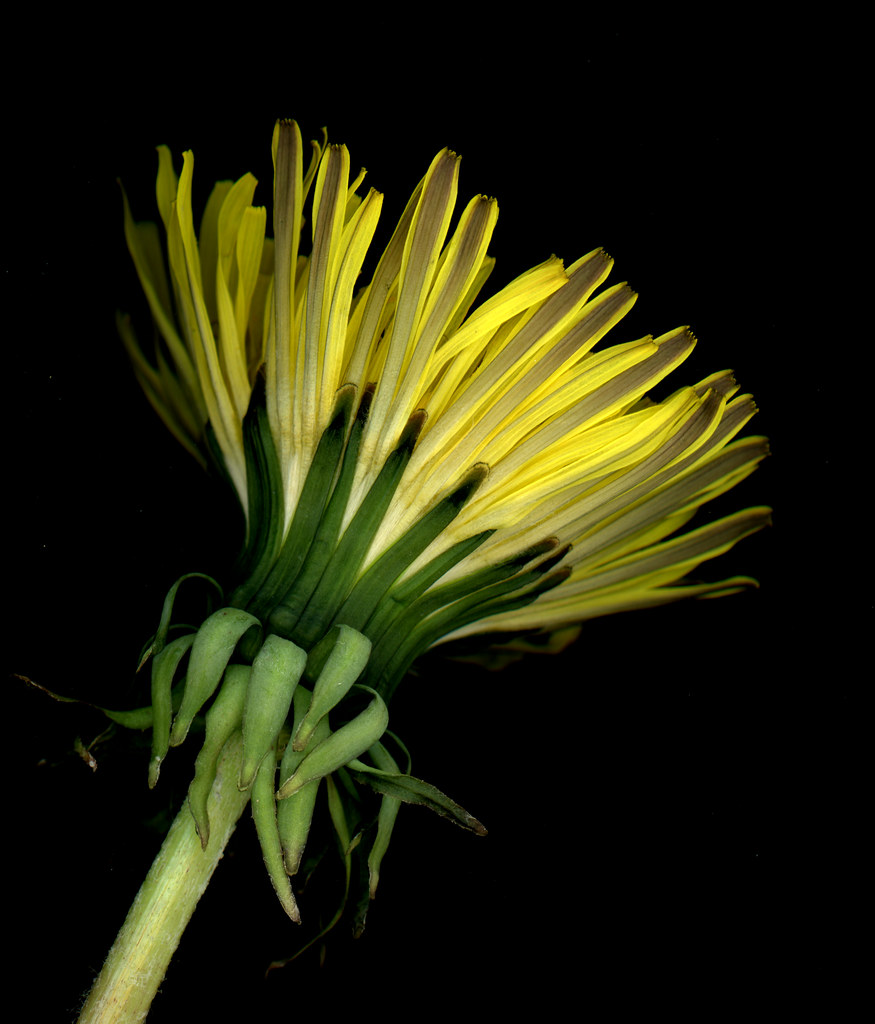dandelion: (119, 152, 728, 611)
